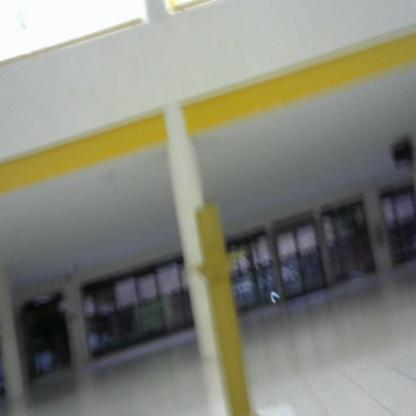pole: (182, 199, 263, 416)
